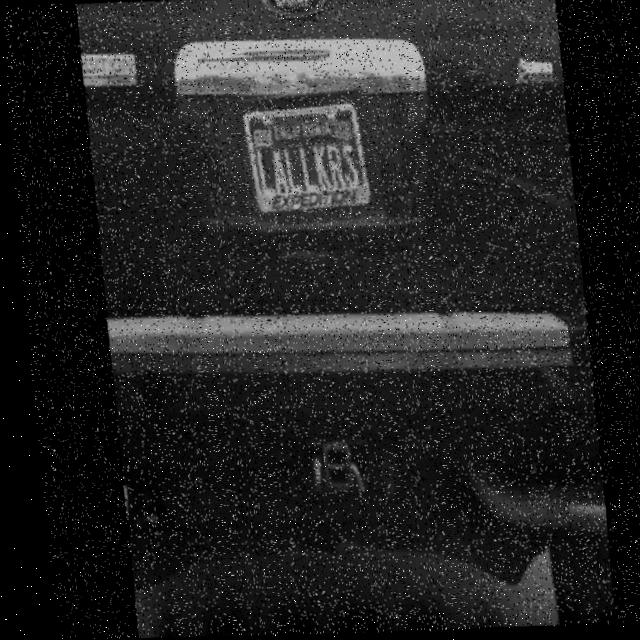LicensePlate: (235, 89, 382, 234)
